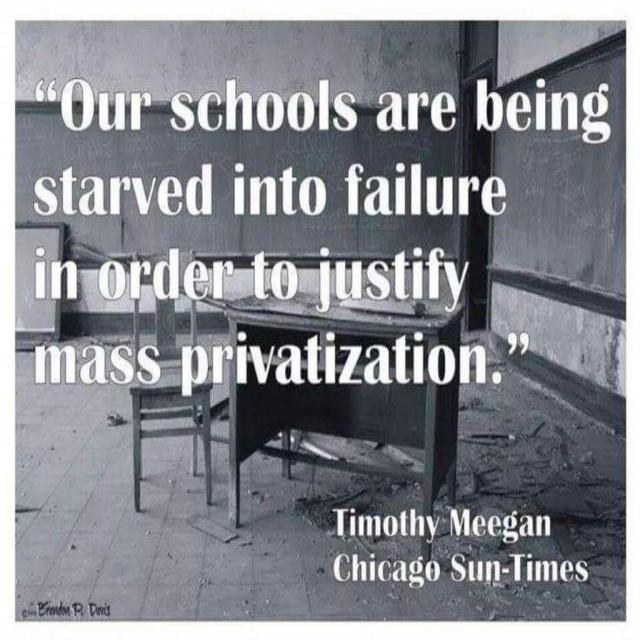desk: (119, 360, 226, 512)
